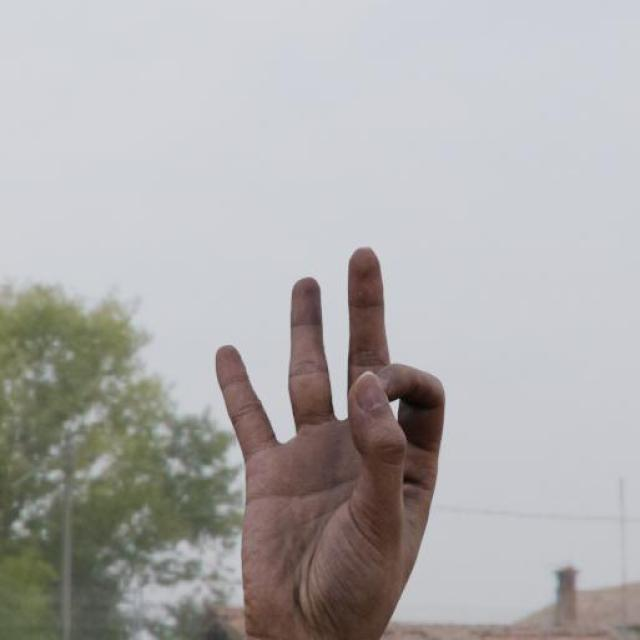F: (211, 246, 450, 636)
